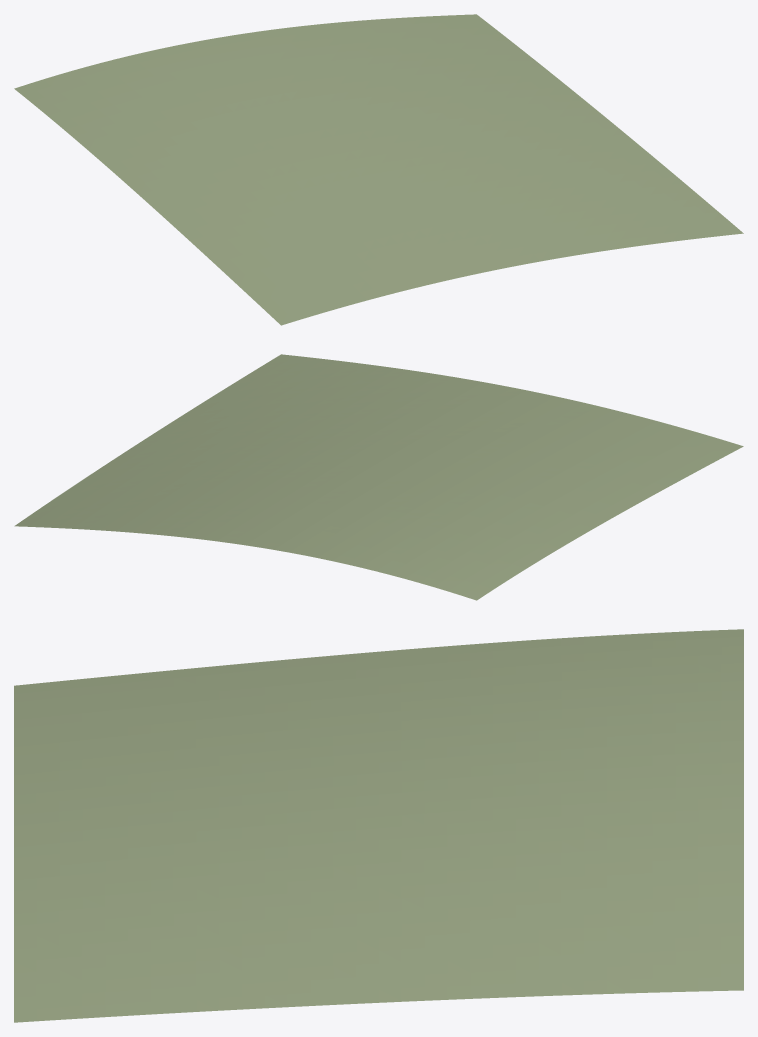
The model's file is expanse-17-18.glb.
3 renders of one model, top to bottom at view 1: azimuth 30°, elevation 25°; view 2: azimuth 150°, elevation 25°; view 3: azimuth 270°, elevation 25°, orthographic. The views are drawn at different scales.
Parts seen in each view (by area): view 1: expanse-17-18; view 2: expanse-17-18; view 3: expanse-17-18.
Boxes of the visible parts, left/top/right/bottom form: expanse-17-18: left=14, top=14, right=743, bottom=325; expanse-17-18: left=14, top=354, right=743, bottom=600; expanse-17-18: left=14, top=629, right=743, bottom=1022.
Size of the model in its own units: 256 by 35.37 by 256.
